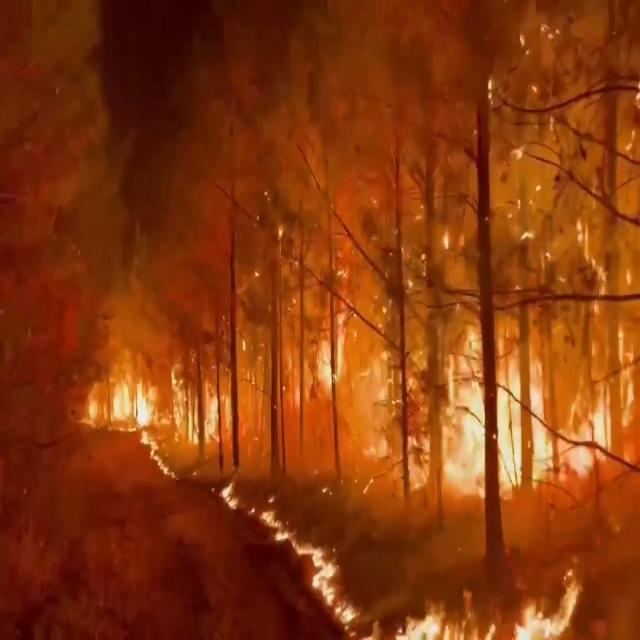Fire: (440, 331, 640, 494), (397, 562, 592, 640), (80, 353, 160, 440), (170, 366, 234, 456), (304, 540, 354, 640), (266, 502, 306, 563)
Smoke: (319, 0, 640, 483), (1, 0, 416, 354)
